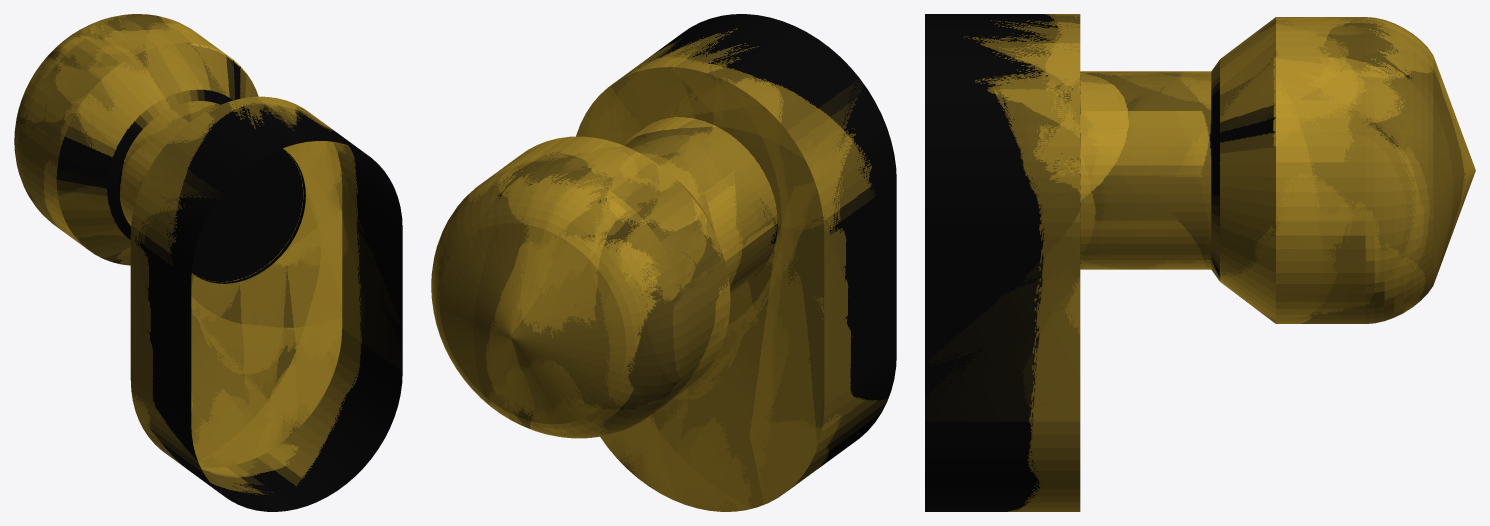
Rendered from doorknob.fbx.
3 views of the same model, side by side, from view 1: azimuth 30°, elevation 25°; view 2: azimuth 150°, elevation 25°; view 3: azimuth 270°, elevation 25° (orthographic). The views are drawn at different scales.
Visible parts, largest first — view 1: doorknob; view 2: doorknob; view 3: doorknob.
Boxes of the visible parts, bbox=[...] form: doorknob: bbox=[14, 14, 402, 511]; doorknob: bbox=[431, 14, 896, 511]; doorknob: bbox=[925, 14, 1475, 511].
Bounding box in the file's own units: 4 × 6.6 × 7.03.
